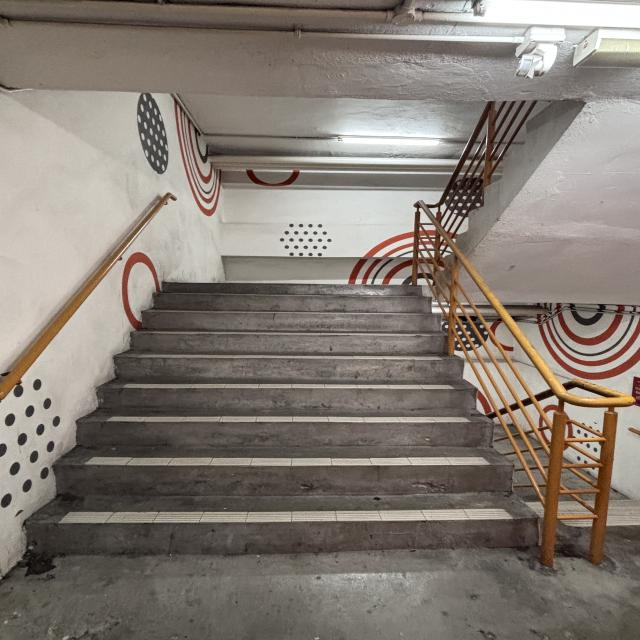Stairs: (0, 89, 640, 581)
